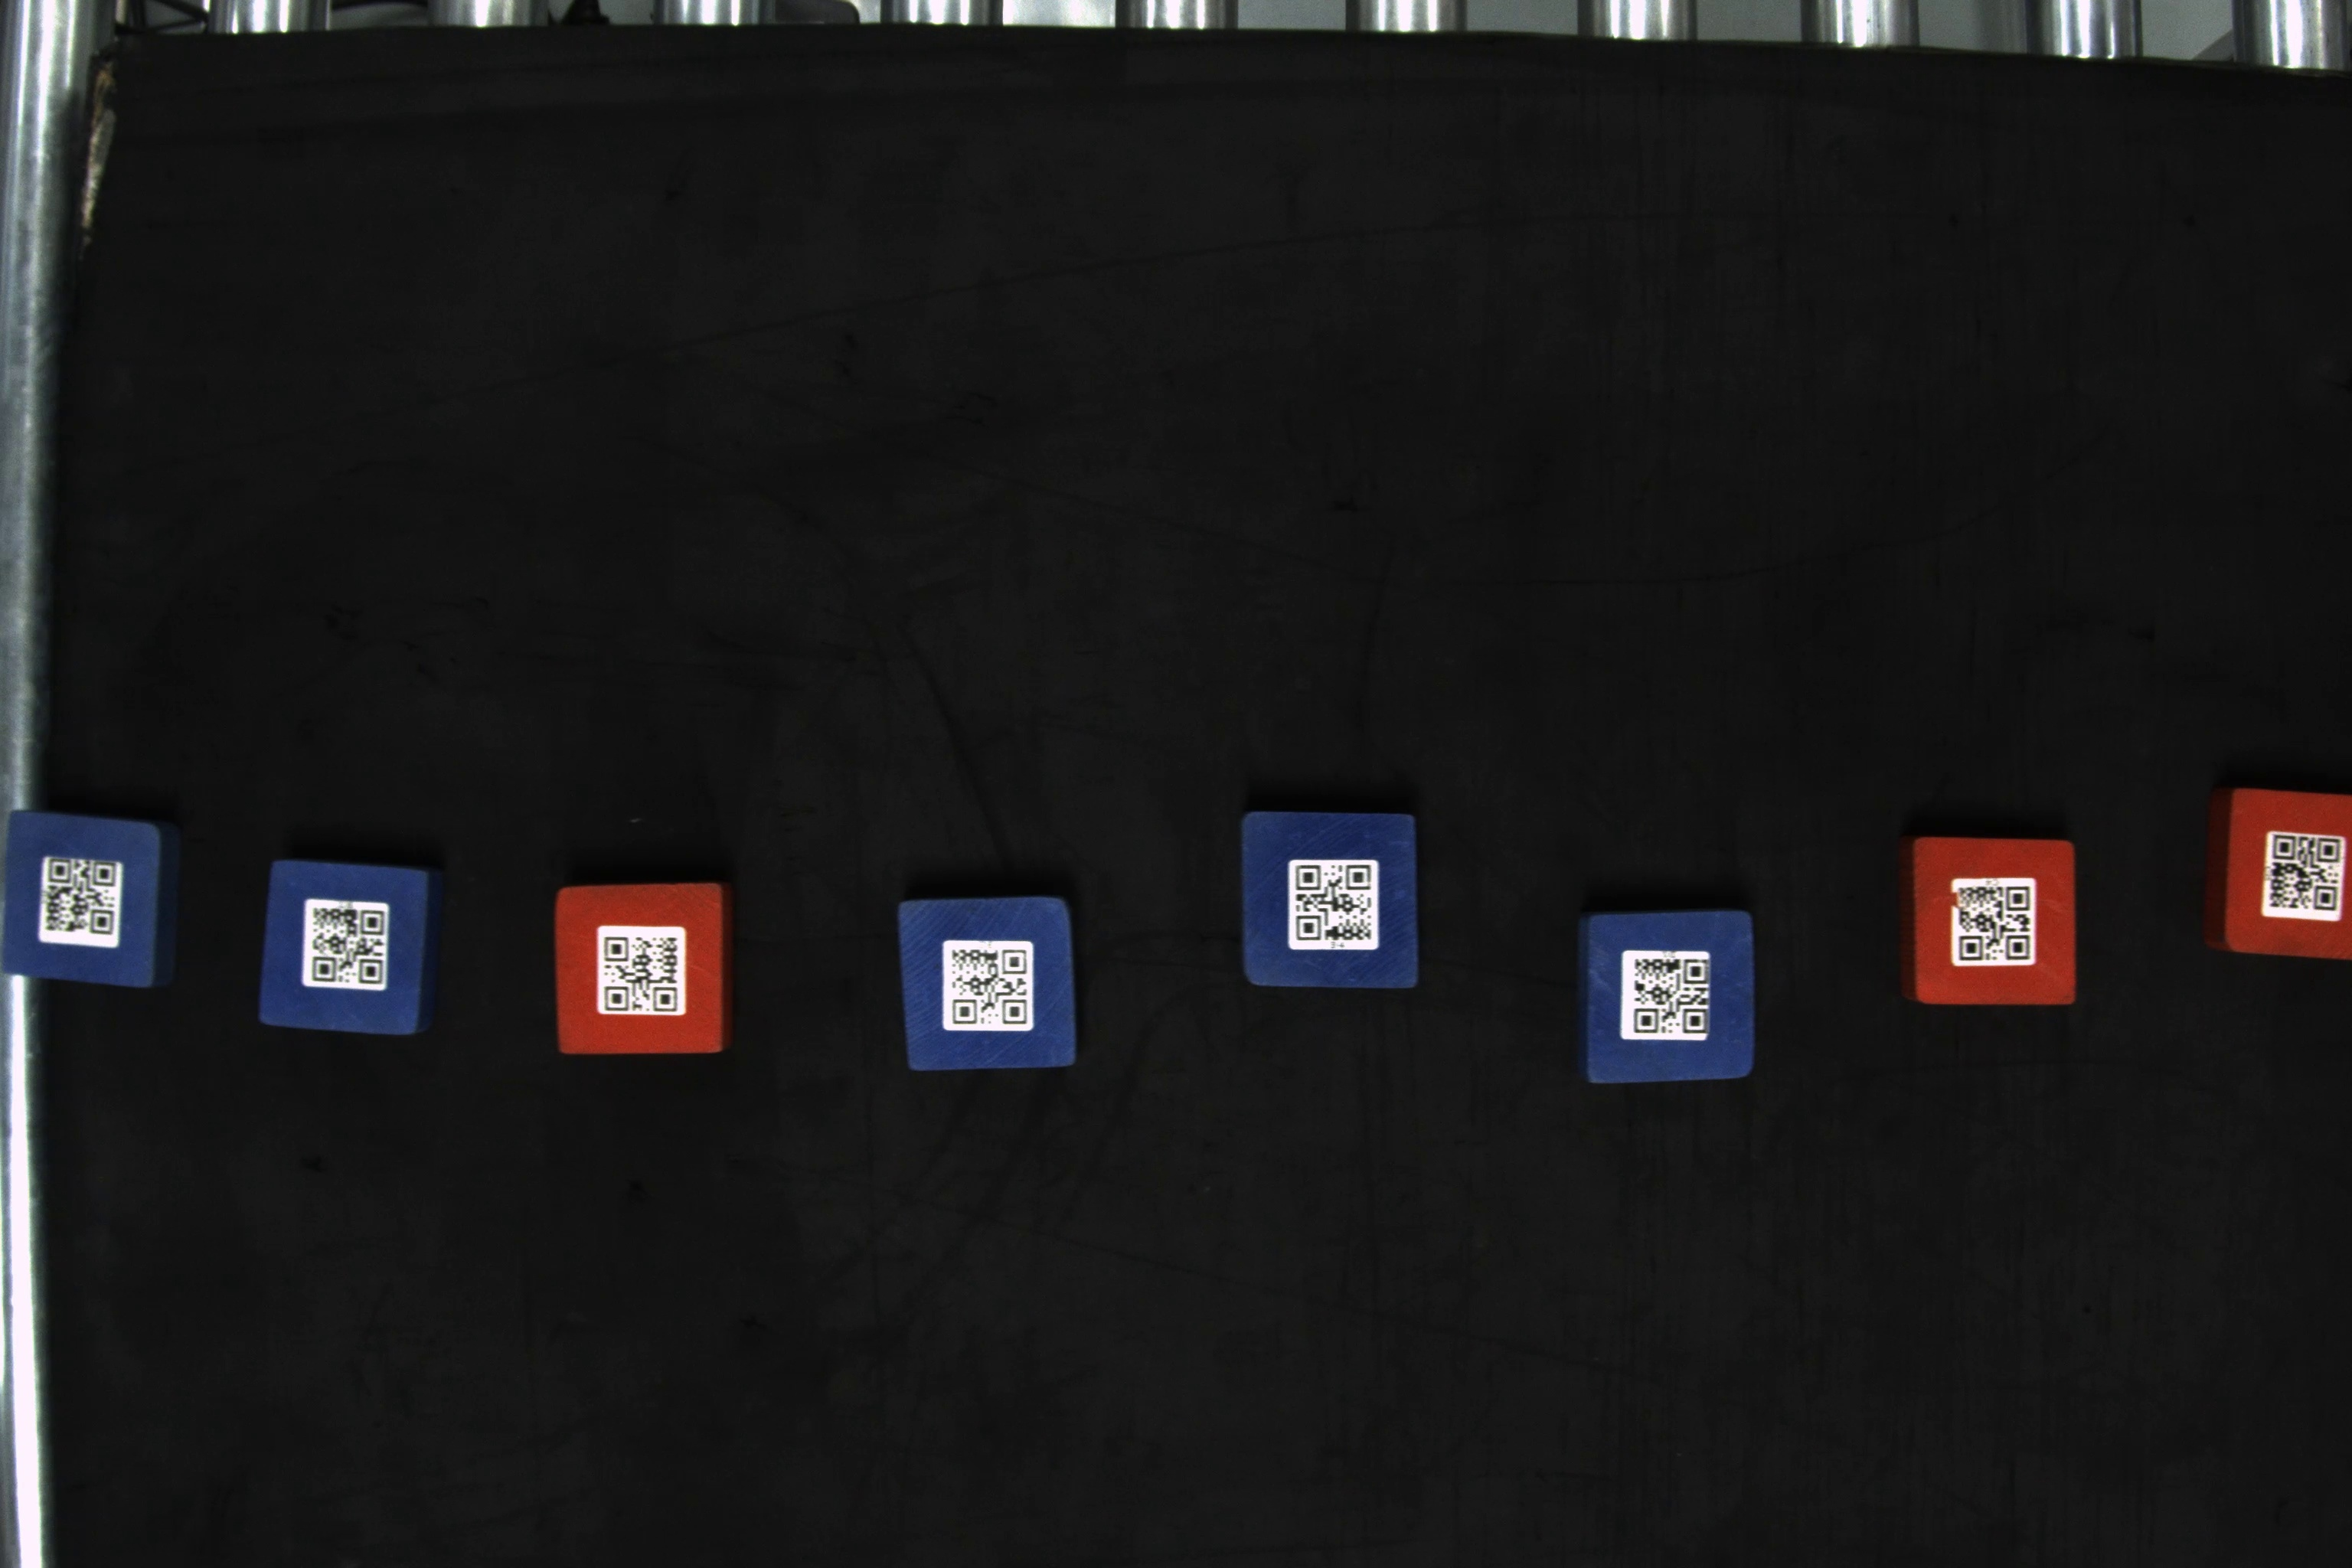wood: (1237, 803, 1433, 994), (889, 896, 1083, 1078), (1895, 833, 2084, 1018), (1571, 906, 1762, 1090), (3, 805, 184, 992), (257, 856, 437, 1041), (548, 882, 733, 1059), (2201, 780, 2352, 969)
